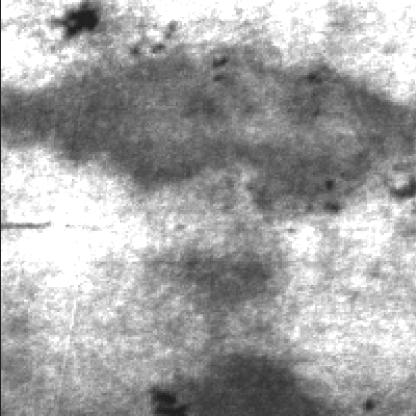inclusion: (42, 0, 102, 42)
patches: (0, 42, 410, 204), (140, 326, 326, 414), (140, 326, 326, 414), (131, 224, 289, 318)
